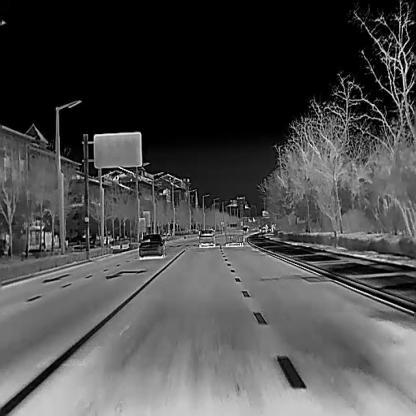car: (138, 233, 166, 257), (224, 222, 244, 247), (198, 228, 215, 247)
